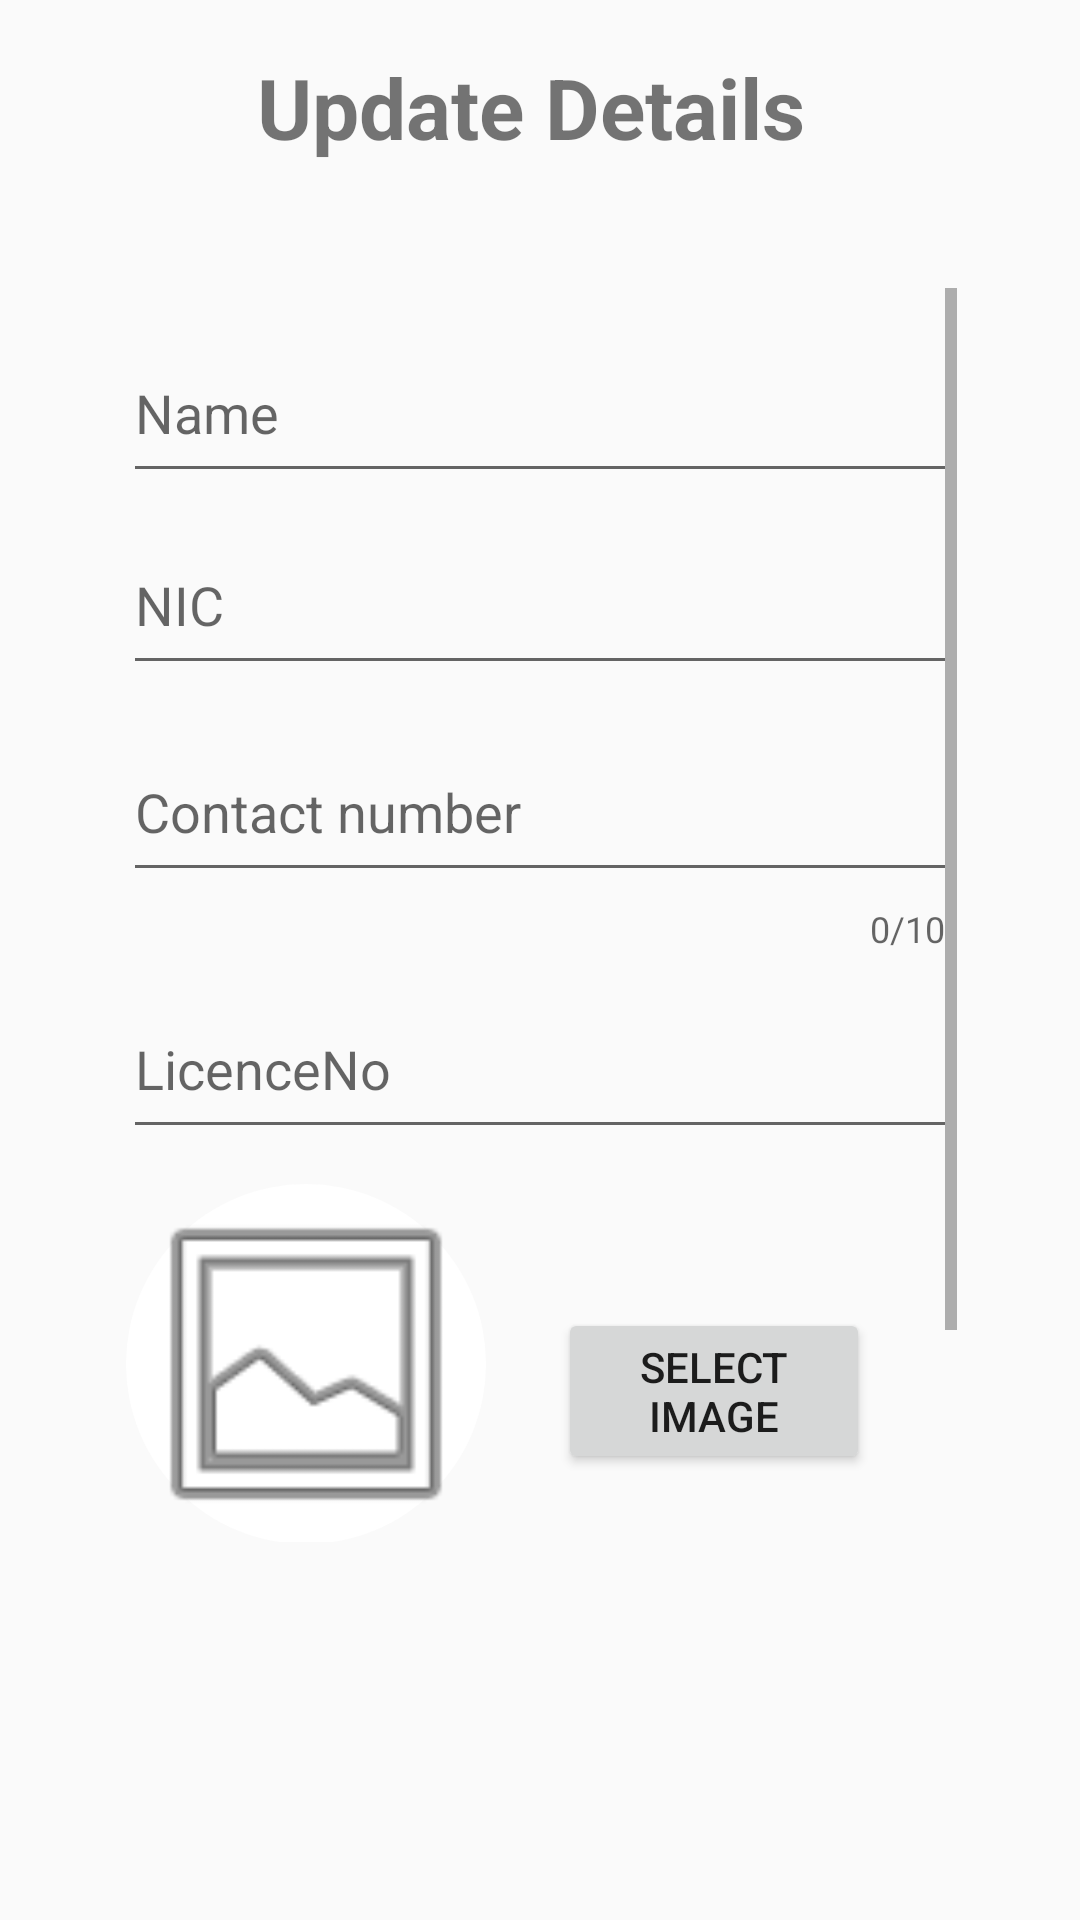

Where icons sit on this 1080x1920 app screen, as [x1,y1,x2,y2]:
gallery: [170,1228,442,1500]
